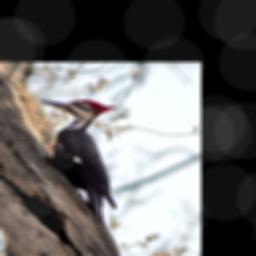Woodpecker: (37, 100, 119, 227)
